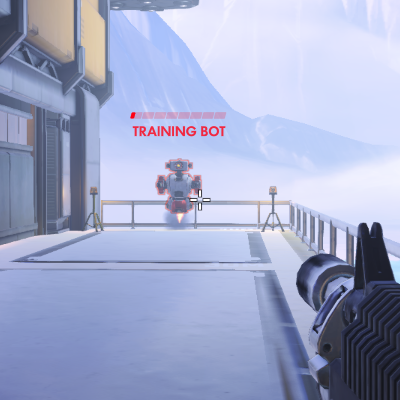hpbar: (129, 111, 227, 120)
